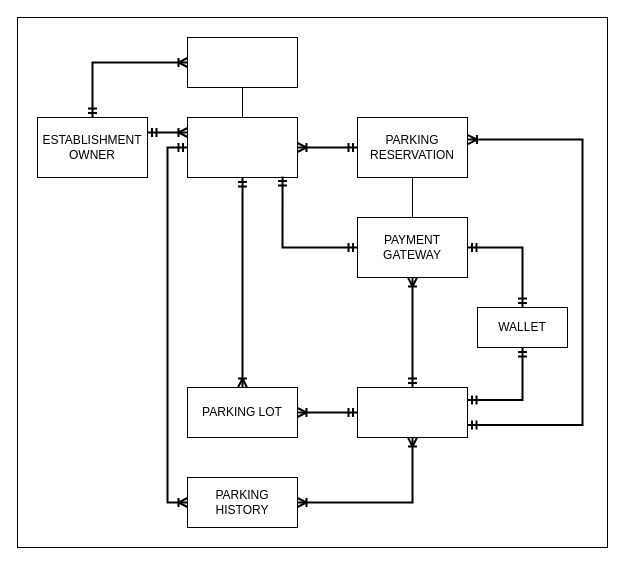
Some shapes in this 625 by 565 pixel diagram are drawn without their labels. The centre of each missing label's shape, as x and y in pixels:
"CUSTOMER" belongs at (x=412, y=412).
"PARKING ESTABLISHMENT" belongs at (x=242, y=147).
"REPORT" belongs at (x=242, y=62).
